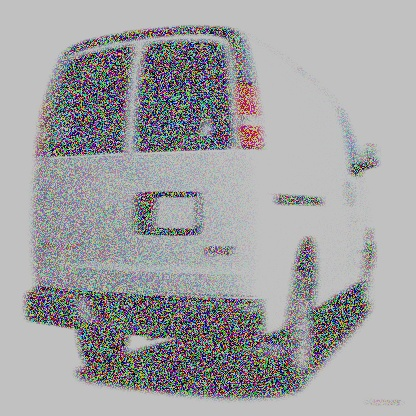Vehicle: (24, 24, 382, 396)
